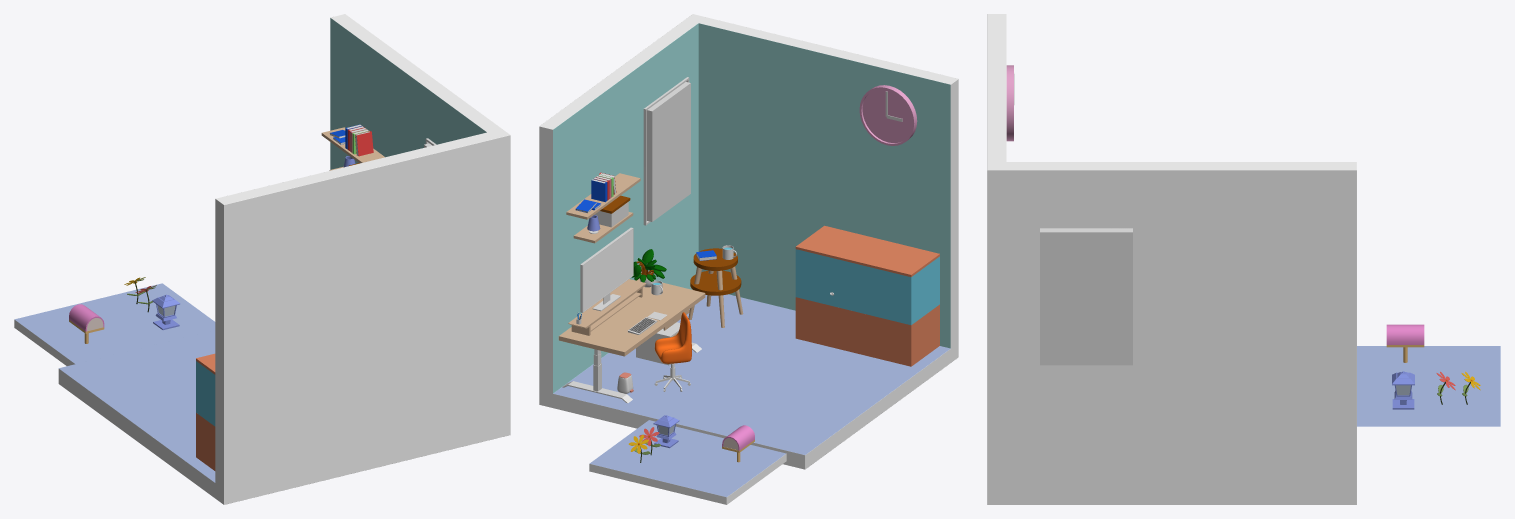
File: Room.glb
The picture shows the model from 3 angles, left to right: view 1: azimuth 30°, elevation 25°; view 2: azimuth 150°, elevation 25°; view 3: azimuth 270°, elevation 25°; orthographic projection. The views are drawn at different scales.
Parts seen in each view (by area): view 1: Room Wall, Room Wall.001, Cube.034, AquaGlass, Cylinder.008, Lamp; view 2: Room Wall, Cube.034, Room Wall.001, AquaGlass, Window, Table Top, Circle Table Top.001, Screen, Table Top.002, Cube.004, Circle Table Top.002, Cube.053 (+9 smaller); view 3: Room Wall, Window, Room Wall.001, Cylinder.008, Lamp, Circle Table Top.001.
Boxes of the visible parts, x1,y1,x2,y2 form: Room Wall: [58, 14, 510, 504]; Room Wall.001: [14, 283, 215, 365]; Cube.034: [196, 353, 215, 470]; AquaGlass: [196, 361, 215, 426]; Cylinder.008: [69, 304, 104, 343]; Lamp: [152, 294, 180, 330]; Room Wall: [539, 14, 958, 469]; Cube.034: [795, 225, 939, 366]; Room Wall.001: [589, 420, 786, 504]; AquaGlass: [795, 249, 939, 325]; Window: [646, 82, 690, 221]; Table Top: [558, 278, 705, 356]; Circle Table Top.001: [859, 85, 917, 145]; Screen: [583, 229, 632, 311]; Table Top.002: [568, 279, 646, 335]; Cube.004: [654, 312, 691, 363]; Circle Table Top.002: [690, 270, 741, 295]; Cube.053: [566, 173, 640, 219]; Room Wall: [987, 14, 1356, 504]; Window: [1040, 228, 1132, 365]; Room Wall.001: [1357, 346, 1500, 426]; Cylinder.008: [1386, 324, 1424, 362]; Lamp: [1392, 371, 1414, 409]; Circle Table Top.001: [1006, 65, 1013, 141].
Bounding box in the file's own units: 20.34 × 19.83 × 27.54.
